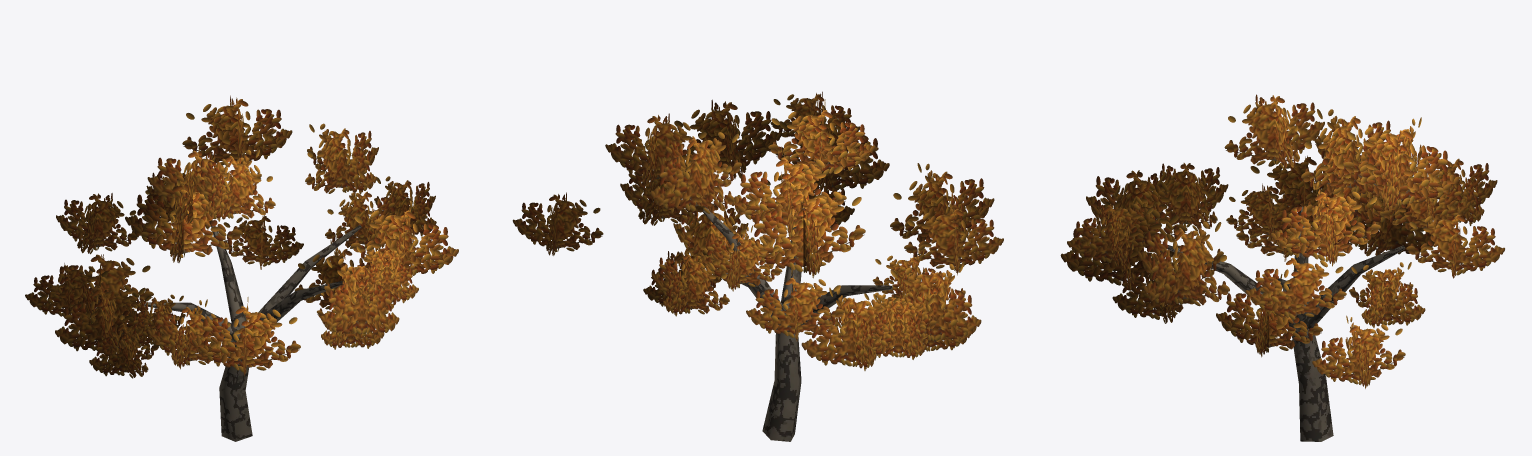
File: oak1_autumn_lod1.fbx
The picture shows the model from 3 angles, left to right: view 1: azimuth 30°, elevation 25°; view 2: azimuth 150°, elevation 25°; view 3: azimuth 270°, elevation 25°; orthographic projection. The views are drawn at different scales.
Visible parts, largest first — view 1: oak1_autumn_lod1; view 2: oak1_autumn_lod1; view 3: oak1_autumn_lod1.
Boxes of the visible parts, x1,y1,x2,y2 form: oak1_autumn_lod1: (25, 95, 458, 441); oak1_autumn_lod1: (512, 91, 1003, 441); oak1_autumn_lod1: (1060, 94, 1504, 441).
Size of the model in its own units: 12.79 by 10.06 by 10.94.
Materials: 2 (2 with a texture image).
